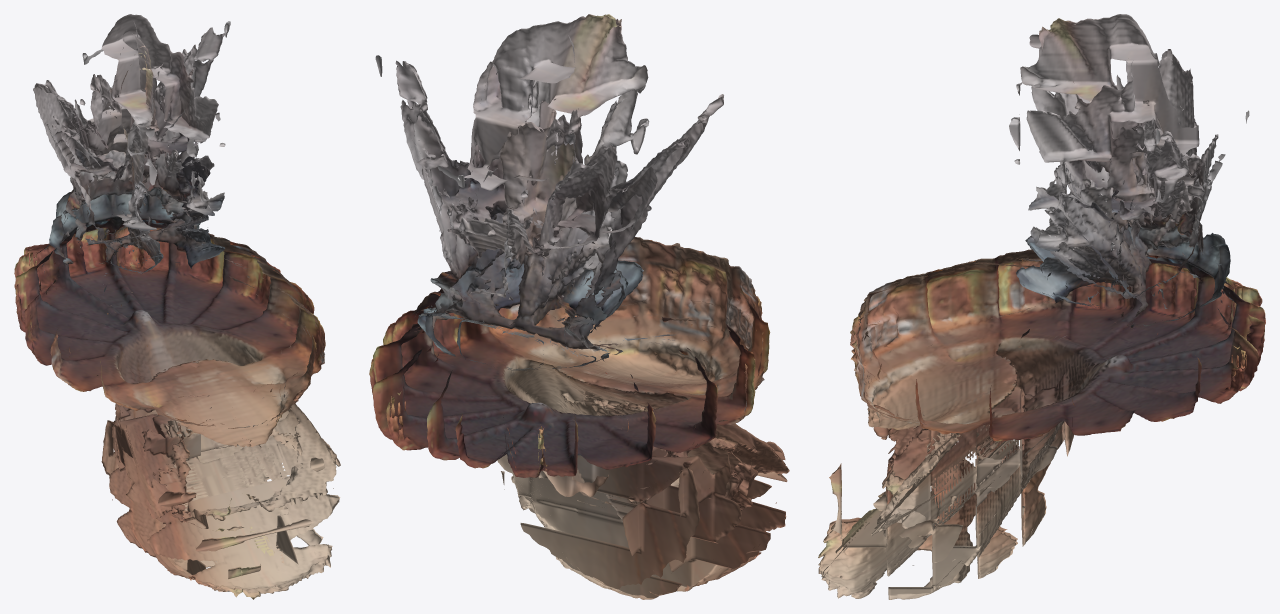
Rendered from gen-20.glb.
3 renders of one model, left to right at view 1: azimuth 30°, elevation 25°; view 2: azimuth 150°, elevation 25°; view 3: azimuth 270°, elevation 25°, orthographic. The views are drawn at different scales.
Visible parts, largest first — view 1: world; view 2: world; view 3: world.
Boxes of the visible parts, x1=… form: world: x1=14, y1=14, x2=340, y2=599; world: x1=369, y1=14, x2=789, y2=599; world: x1=818, y1=14, x2=1265, y2=599.
Bounding box in the file's own units: 9.08 × 17.26 × 12.66.
